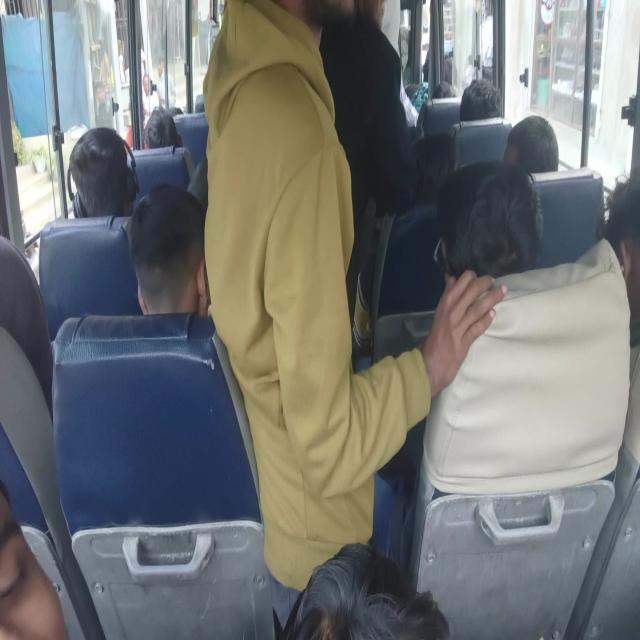person: (202, 1, 508, 634), (318, 1, 418, 328), (282, 540, 450, 638), (434, 160, 543, 282), (127, 182, 210, 316), (0, 479, 68, 639), (596, 166, 639, 346), (66, 125, 138, 218), (502, 114, 559, 174), (459, 77, 502, 121), (143, 106, 183, 149), (154, 53, 176, 109)
